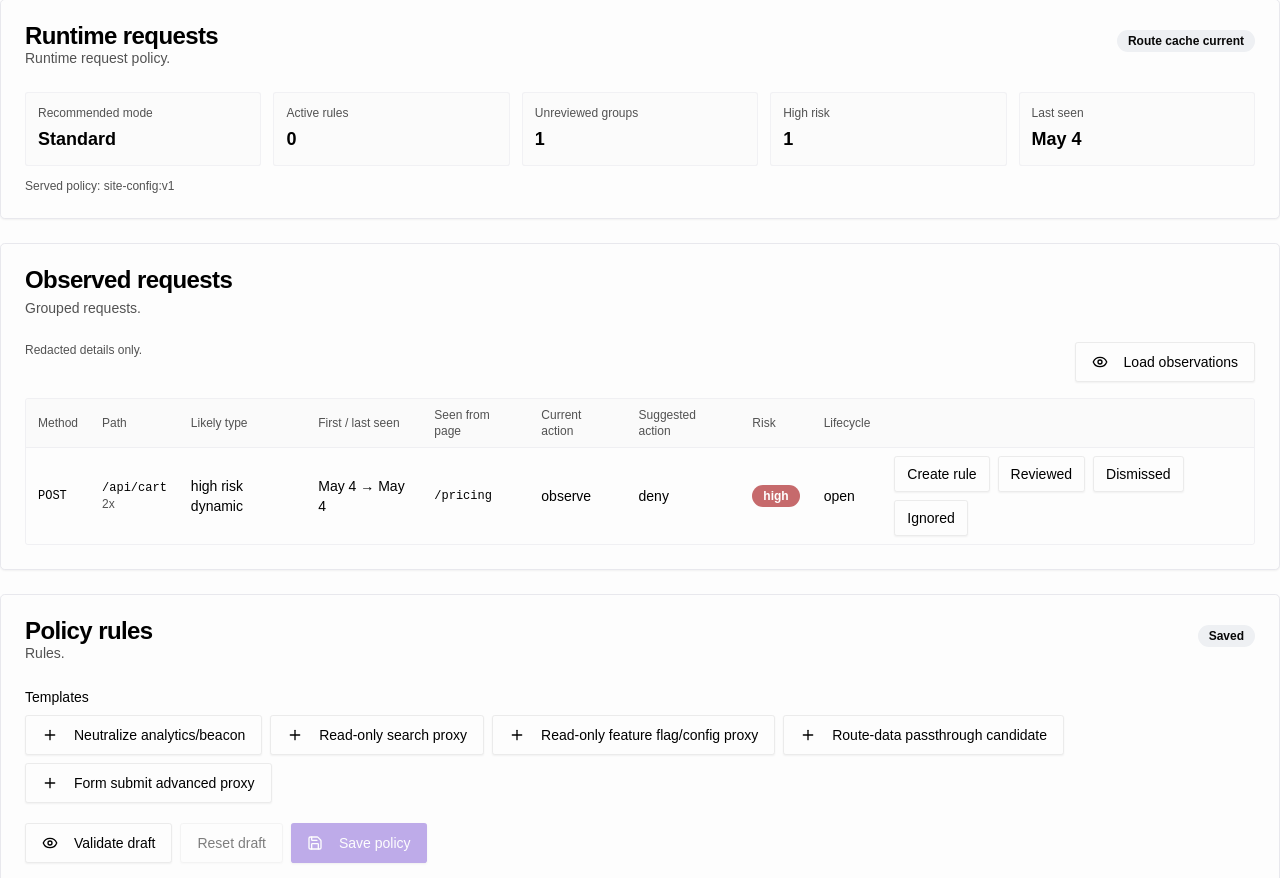
Test: RuntimeRequestsManager › adds rules only through explicit templates
This screenshot has width=1280, height=878.
Click the button "Read-only search proxy": (377, 735) [270,715,484,755]
(page scrolled)
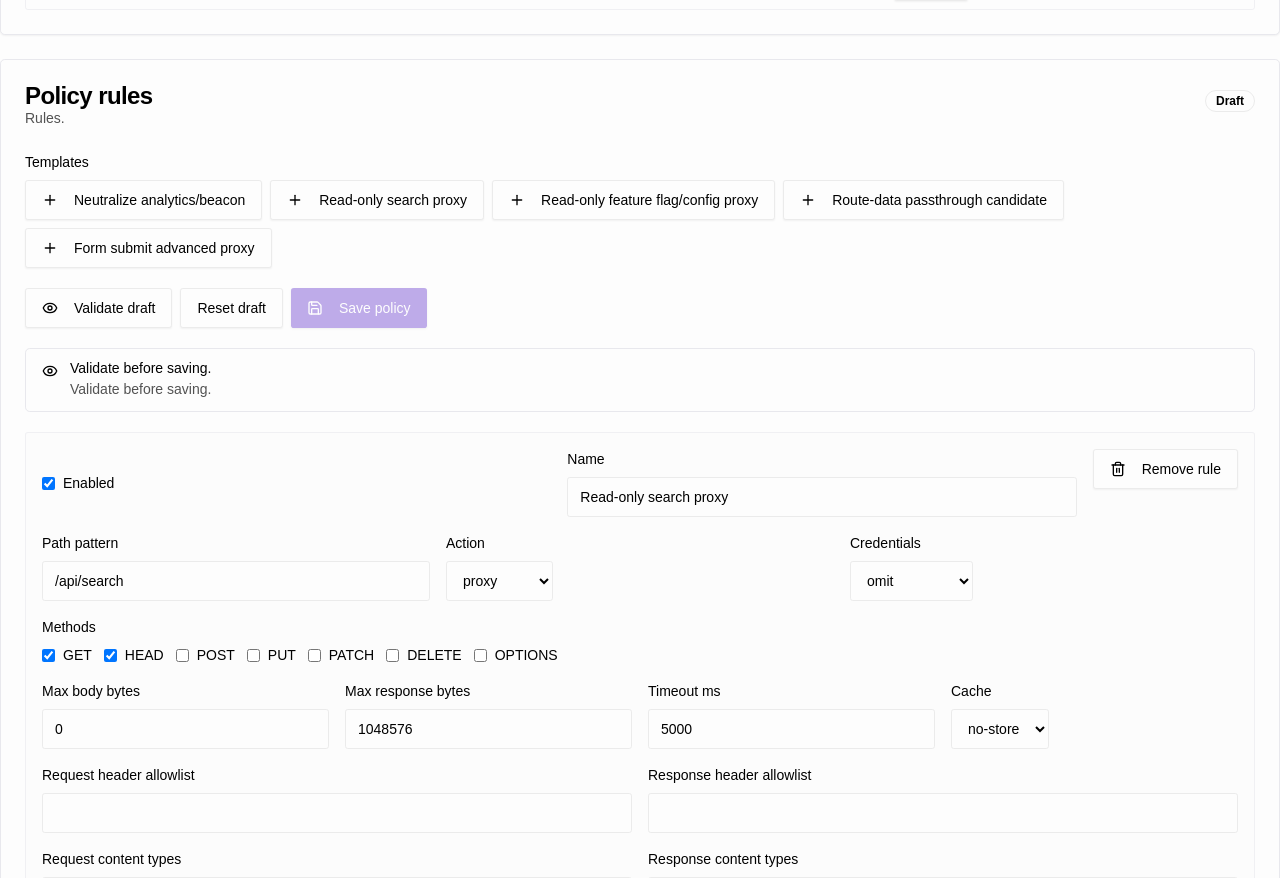
Check: the field showing "/api/search" is shown, box [42,561,430,601]
Check: the field showing "Read-only search proxy" is shown, box [567,477,1077,517]
